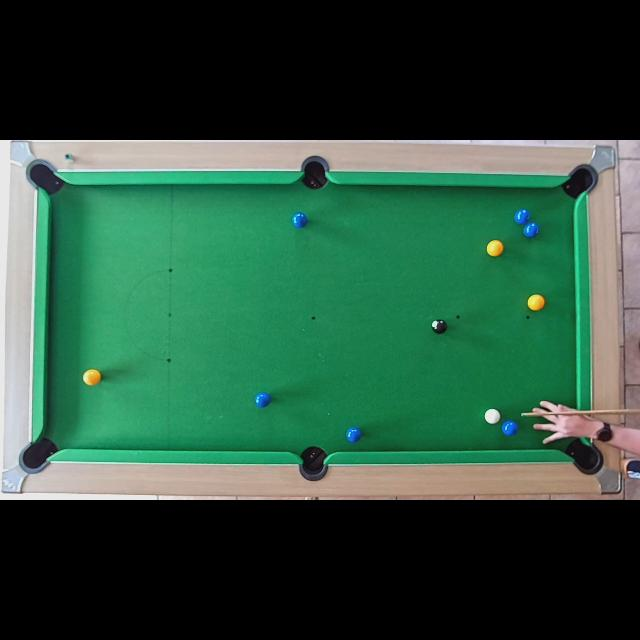Ball: (83, 369, 101, 386), (527, 294, 545, 310), (486, 240, 504, 256), (484, 408, 500, 424), (254, 392, 270, 408), (502, 421, 518, 437), (291, 212, 307, 228), (514, 210, 530, 226), (524, 223, 540, 239), (432, 320, 448, 334), (346, 427, 360, 443)
